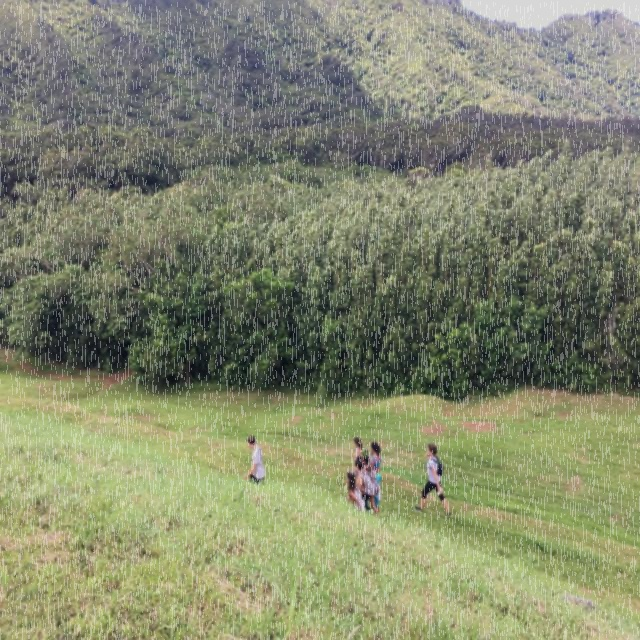pessoa: (413, 442, 453, 520), (360, 450, 380, 520), (354, 456, 376, 514), (242, 434, 266, 485), (369, 440, 382, 520), (346, 470, 366, 514), (353, 436, 363, 474), (364, 448, 368, 454)
